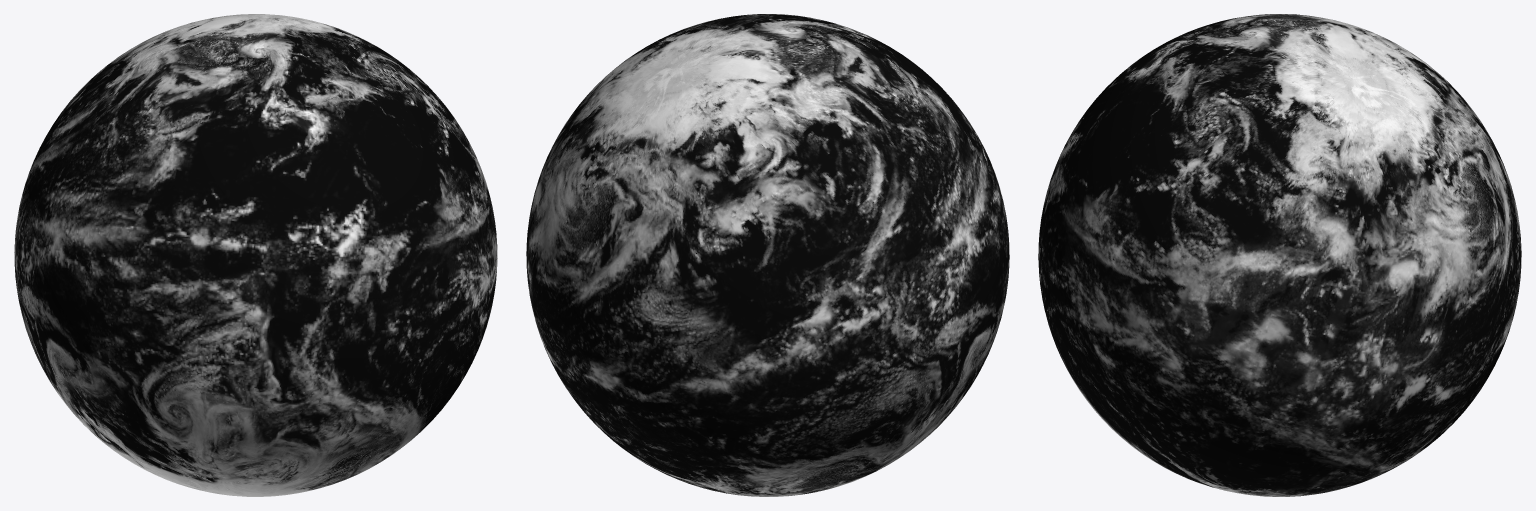
3 views of the same model, side by side, from view 1: azimuth 30°, elevation 25°; view 2: azimuth 150°, elevation 25°; view 3: azimuth 270°, elevation 25° (orthographic).
Parts seen in each view (by area): view 1: 地球; view 2: 地球; view 3: 地球.
Part boxes in pixels (x1,y1,x2,y2): 地球: [14, 14, 497, 496]; 地球: [526, 14, 1009, 496]; 地球: [1038, 14, 1521, 496].
Size of the model in its own units: 141 by 141 by 141.
